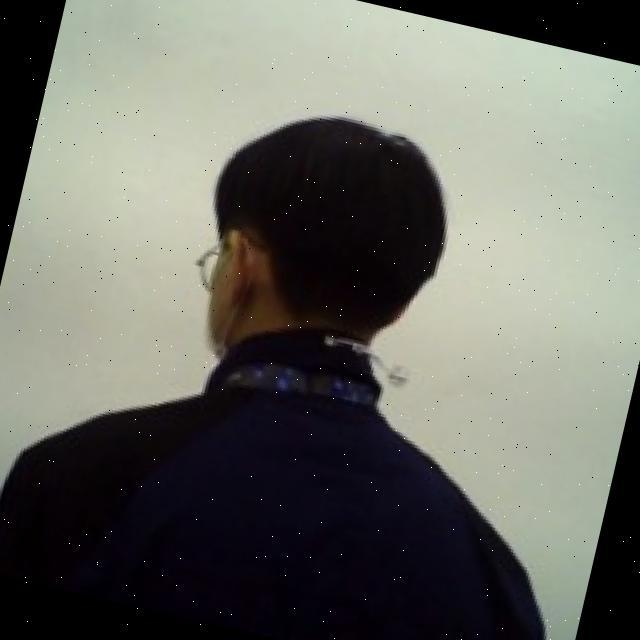no_gloves: (182, 78, 472, 356)
